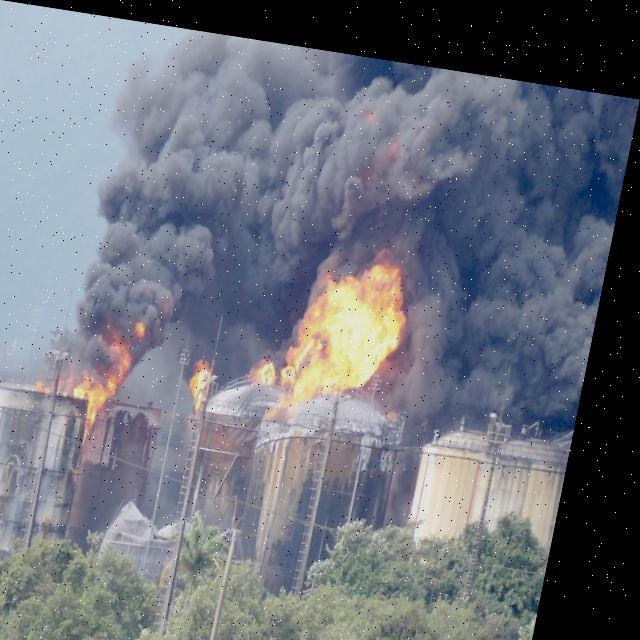Fire: (259, 229, 429, 412), (73, 304, 160, 441), (198, 350, 232, 402), (49, 374, 67, 395)
